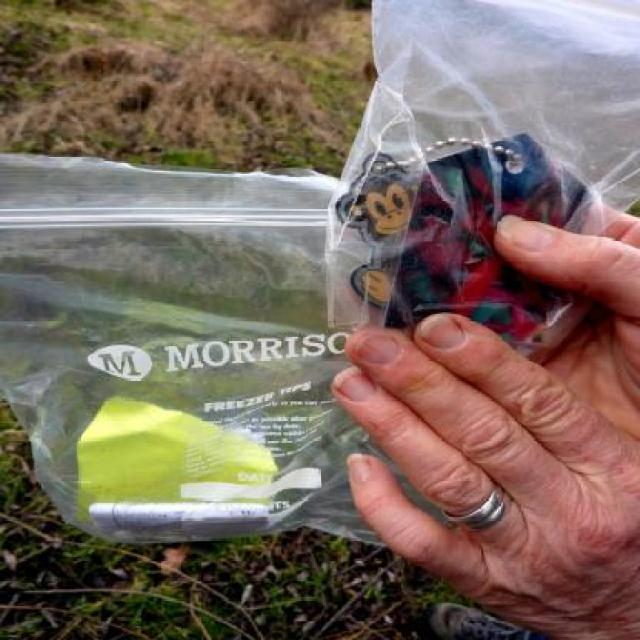plastic bag: (0, 146, 423, 551), (323, 0, 639, 368)
